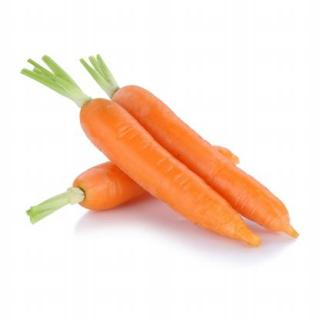Wortel: (110, 86, 291, 233), (81, 100, 257, 242)
